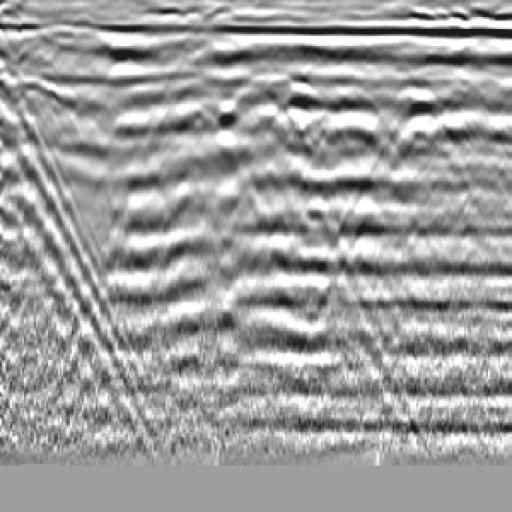metalic: (178, 73, 273, 198)
